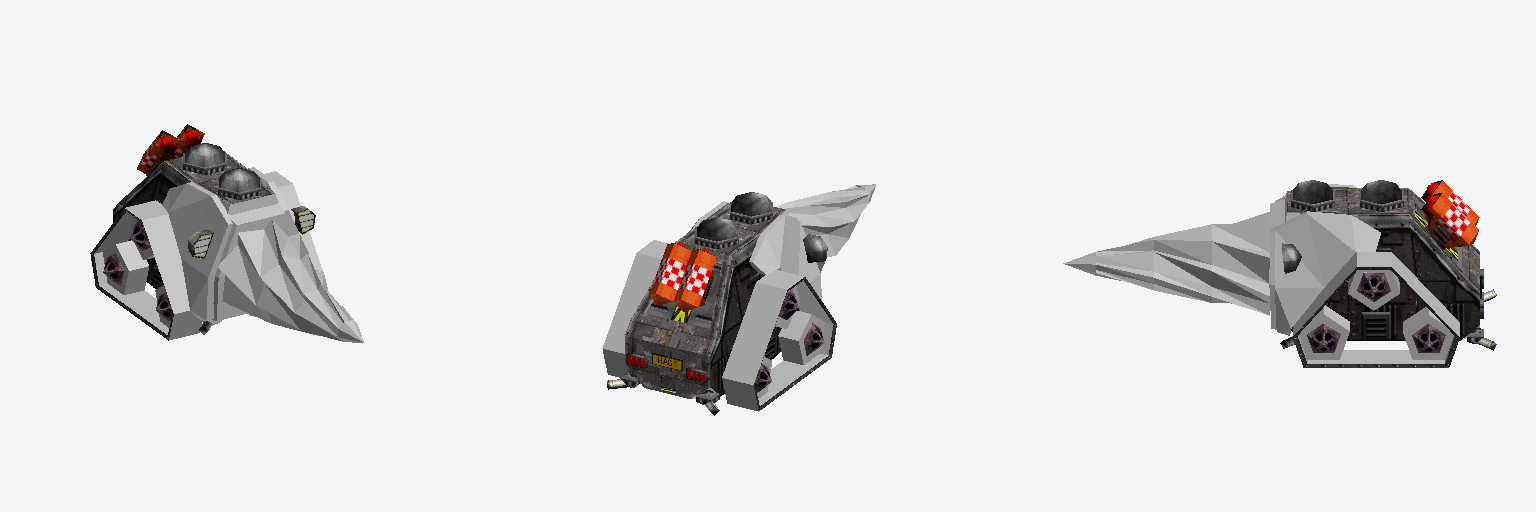
3 views of the same model, side by side, from view 1: azimuth 30°, elevation 25°; view 2: azimuth 150°, elevation 25°; view 3: azimuth 270°, elevation 25° (orthographic).
Parts seen in each view (by area): view 1: material_0, material_10, material_3, material_7, material_30, material_11, material_15, material_21, material_28, material_9, material_27, material_2 (+1 smaller); view 2: material_10, material_30, material_0, material_15, material_3, material_7, material_12, material_21, material_27, material_11, material_28, material_25 (+2 smaller); view 3: material_0, material_10, material_7, material_30, material_29, material_11, material_3, material_15, material_25, material_28, material_27, material_9 (+2 smaller).
Boxes of the visible parts, <box> form: material_0: <box>162,167,363,342</box>; material_10: <box>94,171,322,339</box>; material_3: <box>185,143,307,256</box>; material_7: <box>103,217,170,327</box>; material_30: <box>164,151,274,204</box>; material_11: <box>103,219,172,321</box>; material_15: <box>137,124,204,173</box>; material_21: <box>183,152,260,199</box>; material_28: <box>119,162,162,206</box>; material_9: <box>90,208,173,340</box>; material_27: <box>152,162,190,203</box>; material_2: <box>193,209,315,258</box>; material_10: <box>602,240,833,411</box>; material_30: <box>625,206,785,398</box>; material_0: <box>688,184,875,300</box>; material_15: <box>649,243,716,311</box>; material_3: <box>697,192,827,262</box>; material_7: <box>757,286,824,398</box>; material_12: <box>646,263,721,391</box>; material_21: <box>620,202,772,405</box>; material_27: <box>732,235,764,319</box>; material_11: <box>755,288,824,392</box>; material_28: <box>716,256,741,340</box>; material_25: <box>711,322,741,395</box>; material_0: <box>1063,184,1380,335</box>; material_10: <box>1293,252,1459,363</box>; material_7: <box>1299,270,1453,359</box>; material_30: <box>1287,188,1479,292</box>; material_29: <box>1291,203,1416,340</box>; material_11: <box>1307,272,1445,352</box>; material_3: <box>1282,180,1401,273</box>; material_15: <box>1421,180,1479,246</box>; material_25: <box>1416,282,1479,340</box>; material_28: <box>1409,216,1467,281</box>; material_27: <box>1348,215,1414,281</box>; material_9: <box>1293,267,1459,367</box>.
Bounding box in the file's own units: 2628 × 2406 × 6290.
32 materials, 24 textured.